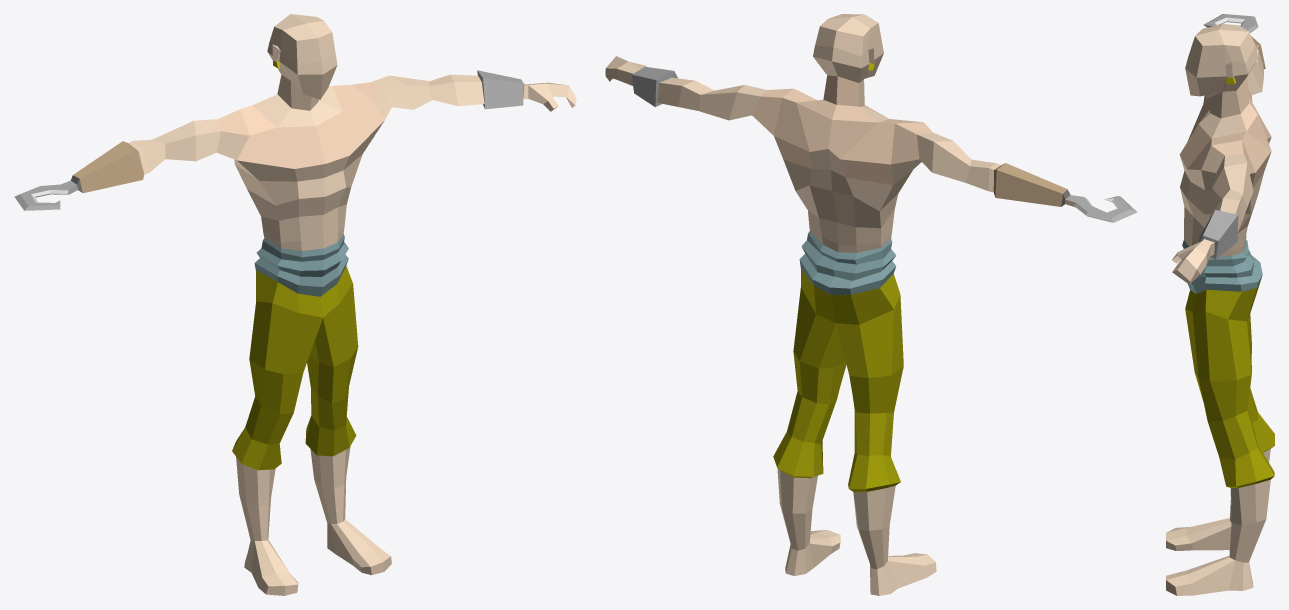
The model's file is Pirata 2.fbx.
3 views of the same model, side by side, from view 1: azimuth 30°, elevation 25°; view 2: azimuth 150°, elevation 25°; view 3: azimuth 270°, elevation 25° (orthographic). The views are drawn at different scales.
Visible parts, largest first — view 1: Circle; view 2: Circle; view 3: Circle.
Boxes of the visible parts, x1,y1,x2,y2 form: Circle: (14, 14, 576, 595); Circle: (605, 14, 1137, 595); Circle: (1166, 14, 1274, 595).
Bounding box in the file's own units: 192 × 186 × 34.17.
